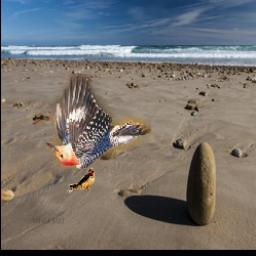Swallow: (67, 167, 96, 194)
Woodpecker: (46, 75, 151, 170)
